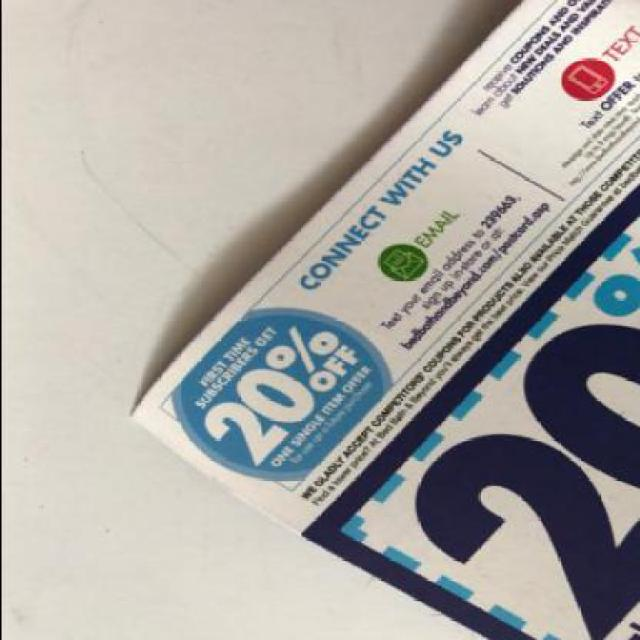PAPER: (127, 1, 638, 638)
